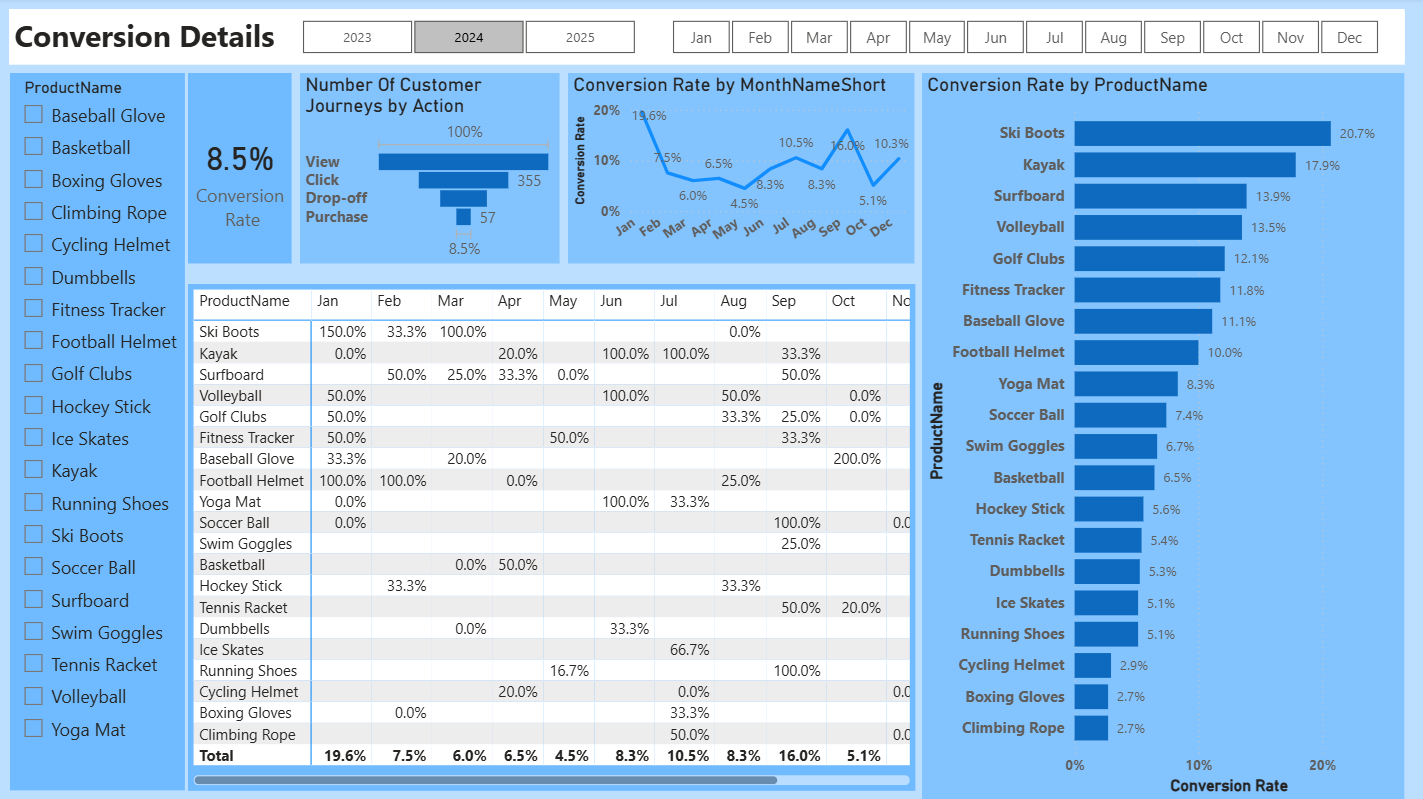

The page's visual inventory and layout, read from the dashboard file:
{"tool":"powerbi","page":{"name":"Conversion Details","canvas":[1280,720],"ordinal":1},"visuals":[{"type":"textbox","box":[8.8,9.7,1252.8,49.6],"z":0},{"type":"slicer","fields":{"Values":["dim_products.ProductName"]},"box":[9.8,67.5,156.7,644.4],"z":1000},{"type":"card","fields":{"Values":["_Calculations.Conversion Rate"]},"box":[169.2,67.1,93.4,171.2],"z":2000},{"type":"slicer","fields":{"Values":["Calender Calendar.Year"]},"box":[247.1,13.6,348.2,42.8],"z":3000},{"type":"slicer","fields":{"Values":["Calender Calendar.MonthNameShort"]},"box":[578.7,13.6,682.8,42.8],"z":4000},{"type":"lineChart","fields":{"Y":["_Calculations.Conversion Rate"],"Category":["Calender Calendar.MonthNameShort"]},"box":[510.5,67.5,311.3,170.9],"z":5000},{"type":"clusteredBarChart","fields":{"Category":["dim_products.ProductName"],"Y":["_Calculations.Conversion Rate"]},"box":[828.7,67.1,432.8,652.6],"z":6000},{"type":"pivotTable","fields":{"Values":["_Calculations.Conversion Rate"],"Rows":["dim_products.ProductName"],"Columns":["Calender Calendar.MonthNameShort"]},"box":[169.2,256.8,652.6,455.2],"z":7000},{"type":"funnel","fields":{"Y":["_Calculations.Number Of Customer Journeys"],"Category":["fact_customer_journey.Action"]},"box":[269.9,67.5,232.9,170.9],"z":8000}]}

Visuals, with their boxes in screenshot pixels (x1, y1, x2, y2), scaled from the page's 1280x720 canvas onto the 1423x799 screenshot:
textbox: [10,11,1403,66]
slicer - dim_products.ProductName: [11,75,185,790]
card - _Calculations.Conversion Rate: [188,74,292,264]
slicer - Calender Calendar.Year: [275,15,662,63]
slicer - Calender Calendar.MonthNameShort: [643,15,1402,63]
lineChart - _Calculations.Conversion Rate x Calender Calendar.MonthNameShort: [568,75,914,265]
clusteredBarChart - dim_products.ProductName x _Calculations.Conversion Rate: [921,74,1402,798]
pivotTable - _Calculations.Conversion Rate x dim_products.ProductName: [188,285,914,790]
funnel - _Calculations.Number Of Customer Journeys x fact_customer_journey.Action: [300,75,559,265]
